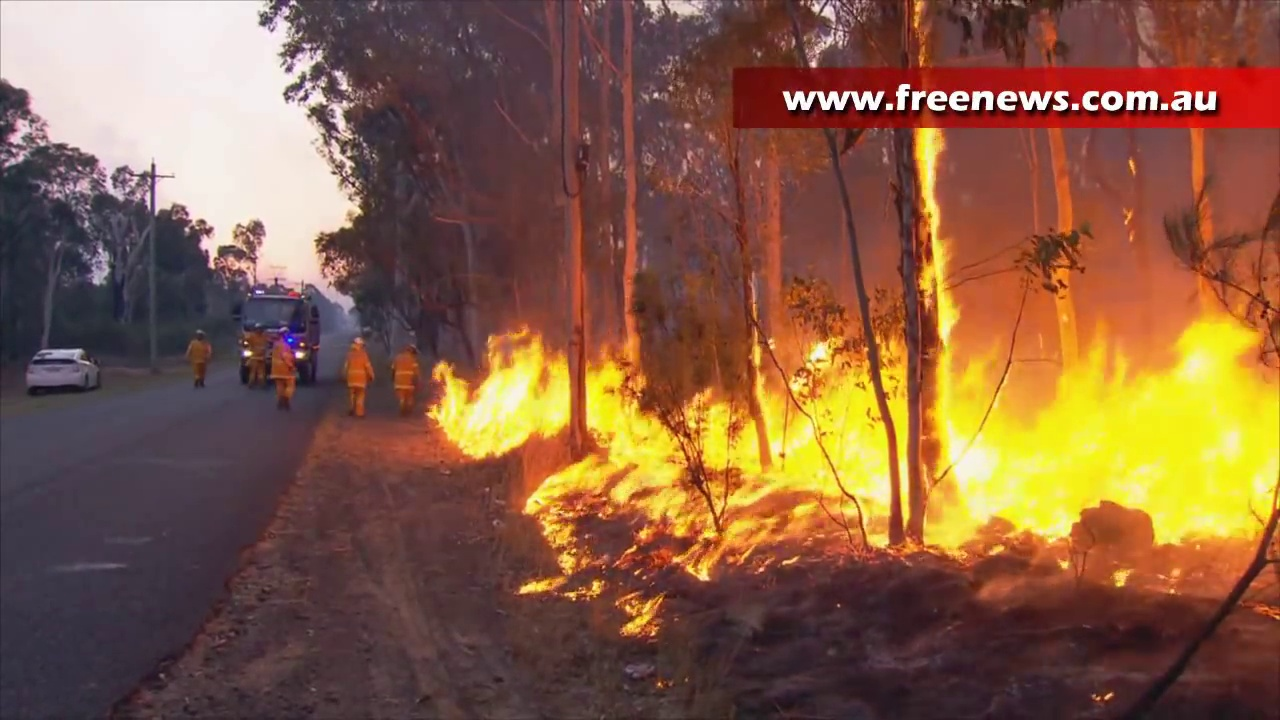fire: (434, 335, 911, 618), (918, 316, 1278, 561), (916, 126, 960, 341)
